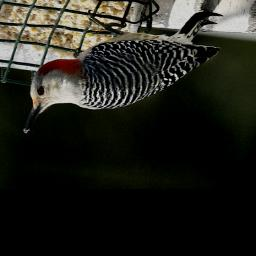Woodpecker: (23, 0, 225, 153)
